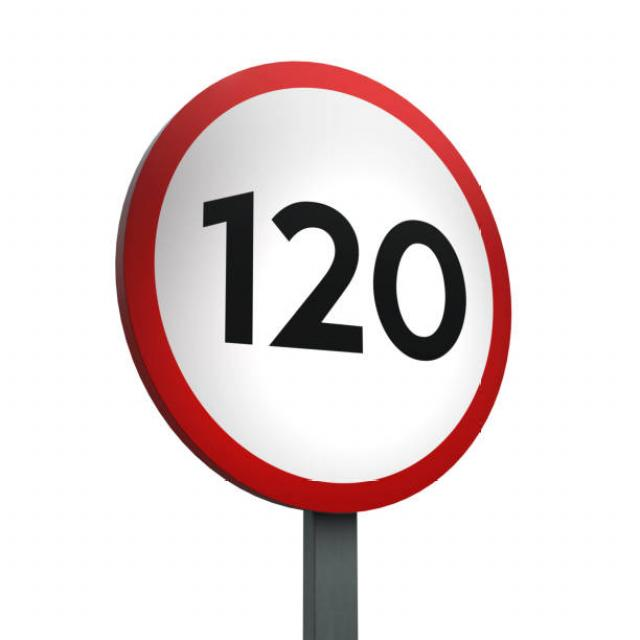speed_limit_120: (109, 46, 521, 517)
